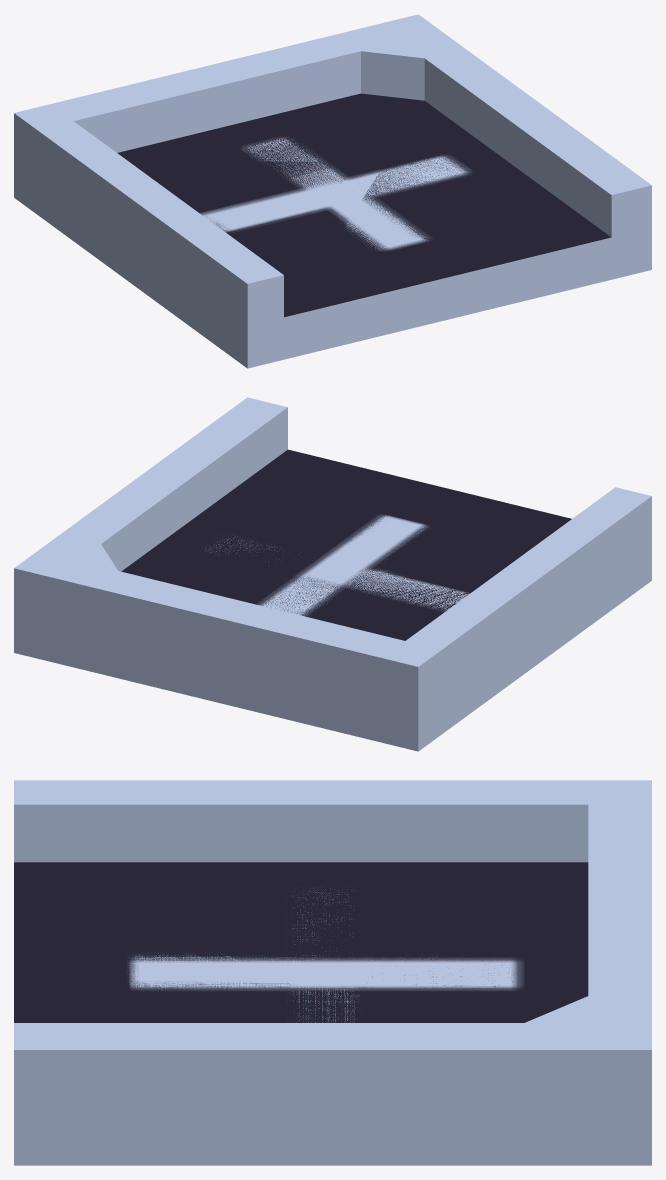
Rendered from yol.fbx.
3 renders of one model, top to bottom at view 1: azimuth 30°, elevation 25°; view 2: azimuth 150°, elevation 25°; view 3: azimuth 270°, elevation 25°, orthographic. The views are drawn at different scales.
Visible parts, largest first — view 1: yol0, yol3, yol2, yol1; view 2: yol0, yol3, yol1, yol2; view 3: yol0, yol3, yol1, yol2.
Part boxes in pixels (x1,y1,x2,y2): yol0: (14,14,651,368); yol3: (50,24,589,313); yol2: (132,93,609,316); yol1: (118,14,609,316); yol0: (14,397,651,751); yol3: (40,425,562,700); yol1: (15,450,570,639); yol2: (182,452,651,580); yol0: (14,780,651,1165); yol3: (33,804,651,1049); yol1: (14,862,651,1049); yol2: (14,780,588,1022).
Size of the model in its own units: 200 by 40 by 200.
